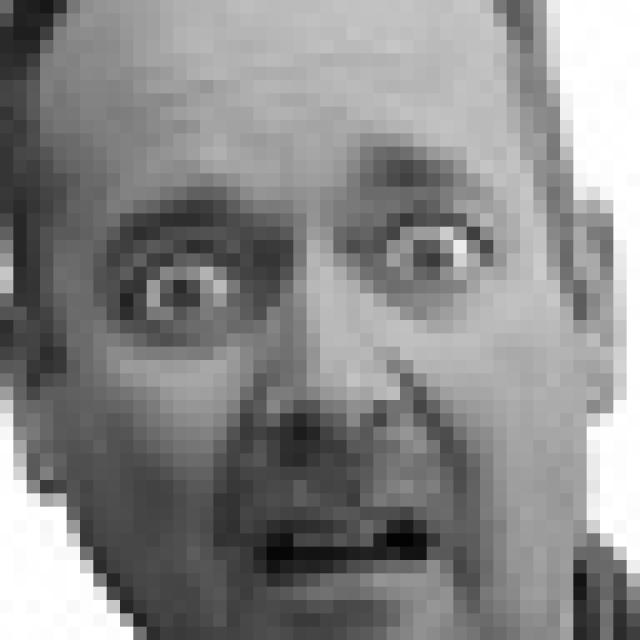fear: (98, 134, 519, 629)
